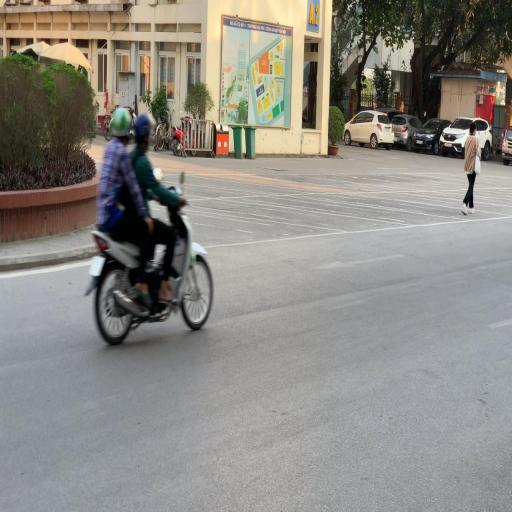bike: (82, 106, 216, 350)
numberplate: (89, 257, 107, 278)
with helmet: (109, 106, 135, 138), (133, 111, 157, 138)
